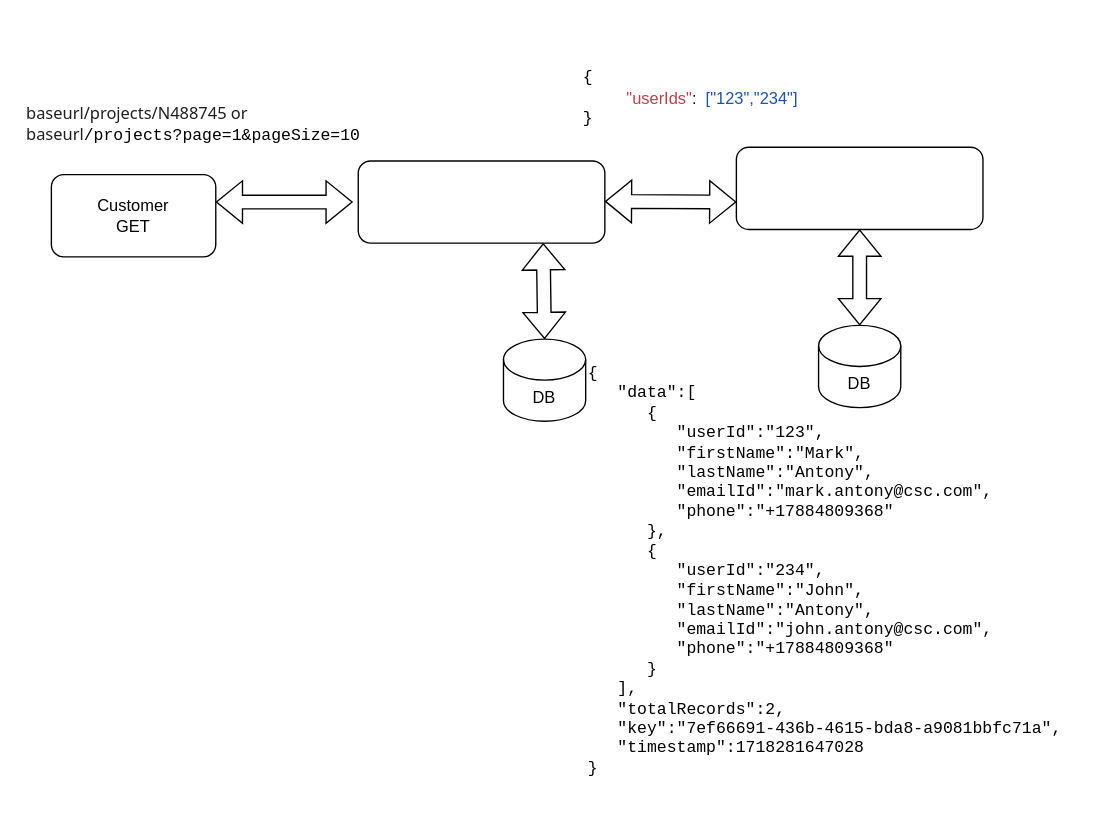
Image size: 1115x832. Some labels were removed from this diagram. Here are the shapes that lost their labels. From the top down, the centre of each, then its label:
At point (481, 201): "iomp-customer-service".
At point (859, 187): "iomp-user-service".
